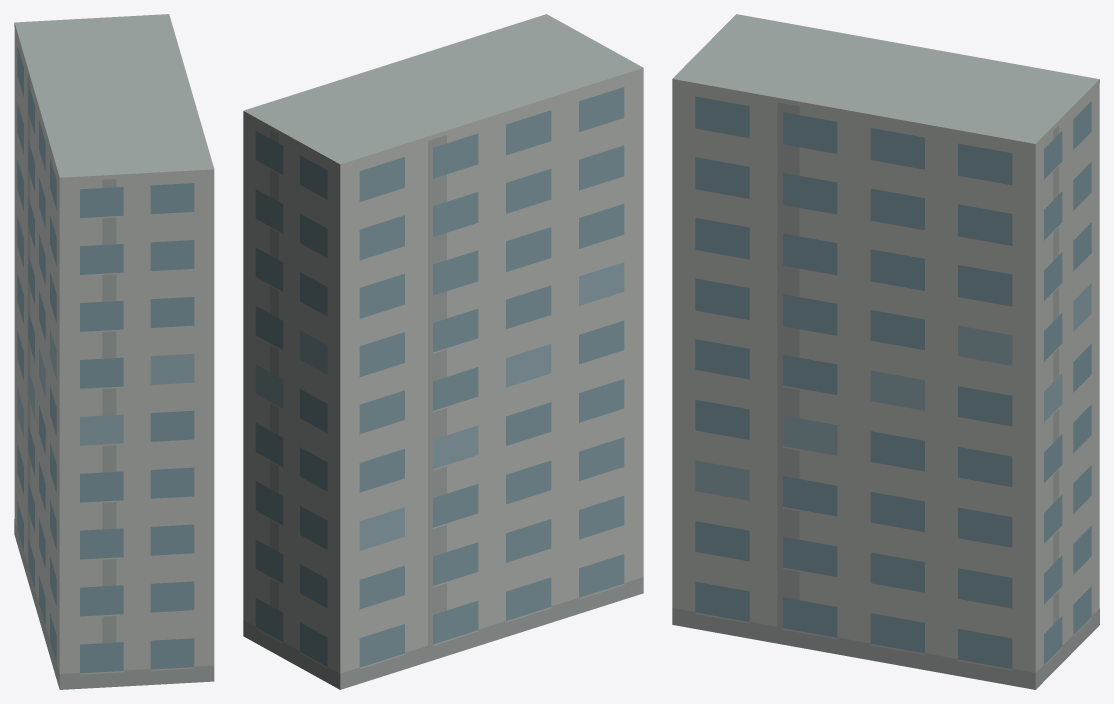
File: survey-upis-32868882.glb
3 views of the same model, side by side, from view 1: azimuth 30°, elevation 25°; view 2: azimuth 150°, elevation 25°; view 3: azimuth 270°, elevation 25° (orthographic). The views are drawn at different scales.
Visible parts, largest first — view 1: survey-upis-32868882.tmp; view 2: survey-upis-32868882.tmp; view 3: survey-upis-32868882.tmp.
Part boxes in pixels (bbox=[...]): survey-upis-32868882.tmp: bbox=[14, 14, 214, 689]; survey-upis-32868882.tmp: bbox=[243, 14, 643, 689]; survey-upis-32868882.tmp: bbox=[672, 14, 1099, 689].
Bounding box in the file's own units: 15.13 × 29.6 × 21.02.
